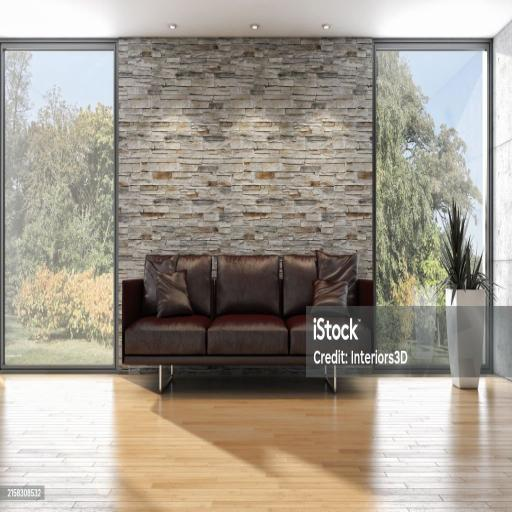back_cushion: (216, 251, 358, 317), (142, 255, 212, 316)
base: (127, 355, 334, 371)
left_arm: (356, 278, 374, 352)
legs: (158, 365, 172, 393), (325, 366, 336, 393)
right_arm: (122, 278, 142, 362)
seat_cushion: (124, 314, 360, 364)
stallion-sofa: (122, 250, 375, 390)
